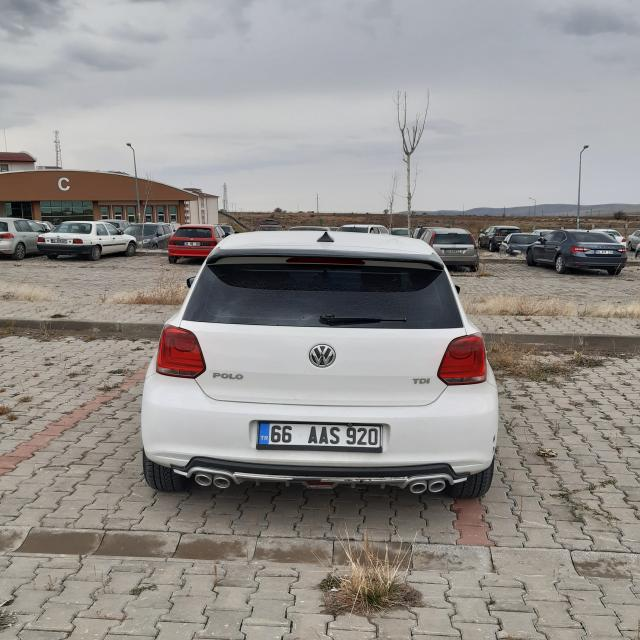plate: (259, 421, 381, 446)
